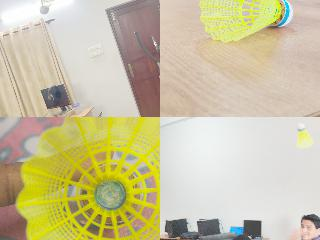shuttlecock: (16, 117, 159, 239), (200, 0, 293, 42), (294, 122, 314, 148), (39, 0, 62, 15)
